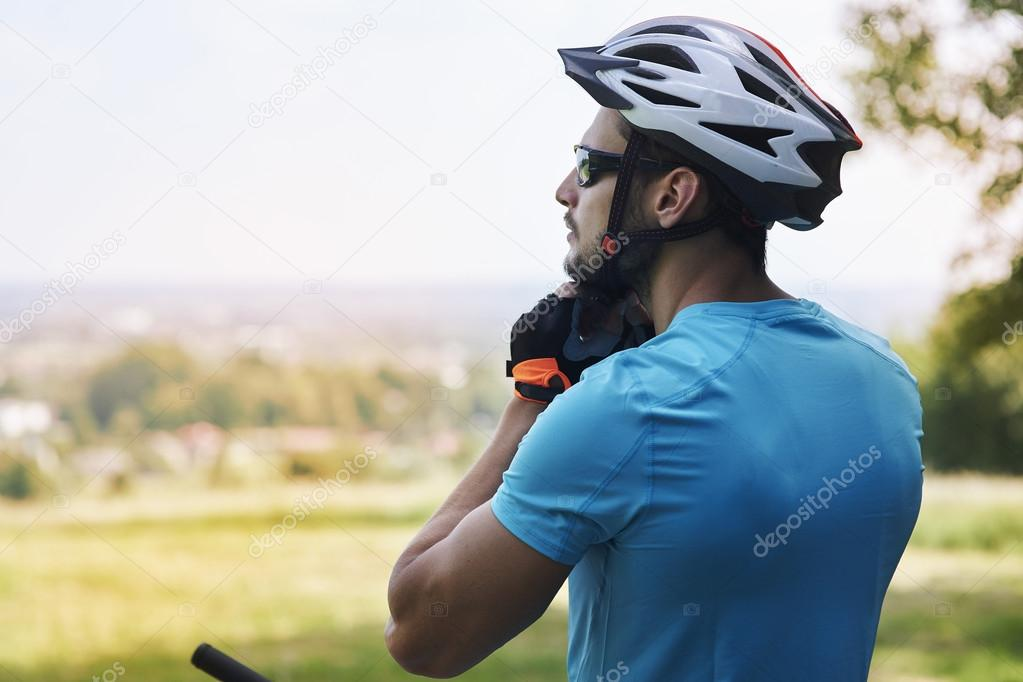helmet: (557, 15, 862, 287)
